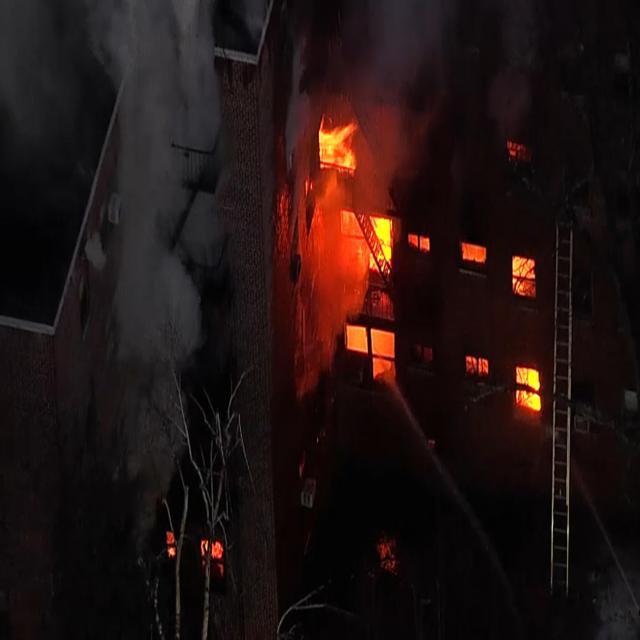Fire: (296, 96, 400, 388), (164, 512, 226, 592), (510, 249, 534, 311), (517, 360, 542, 416)
